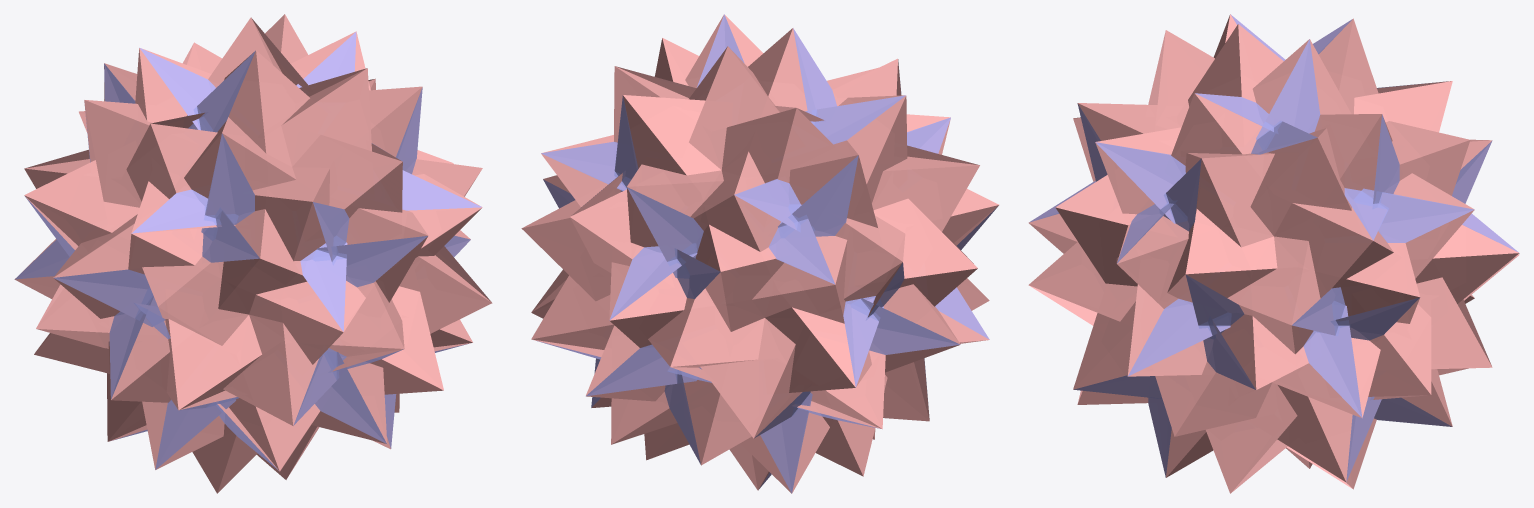
Rendered from GreatInvertedSnubIcosidodecahedron.obj.
3 renders of one model, left to right at view 1: azimuth 30°, elevation 25°; view 2: azimuth 150°, elevation 25°; view 3: azimuth 270°, elevation 25°, orthographic.
Size of the model in its own units: 1.27 by 1.27 by 1.27.
